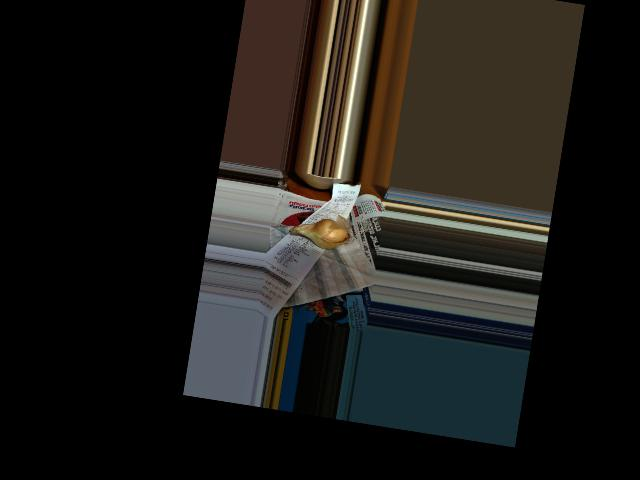onion: (292, 215, 350, 254)
